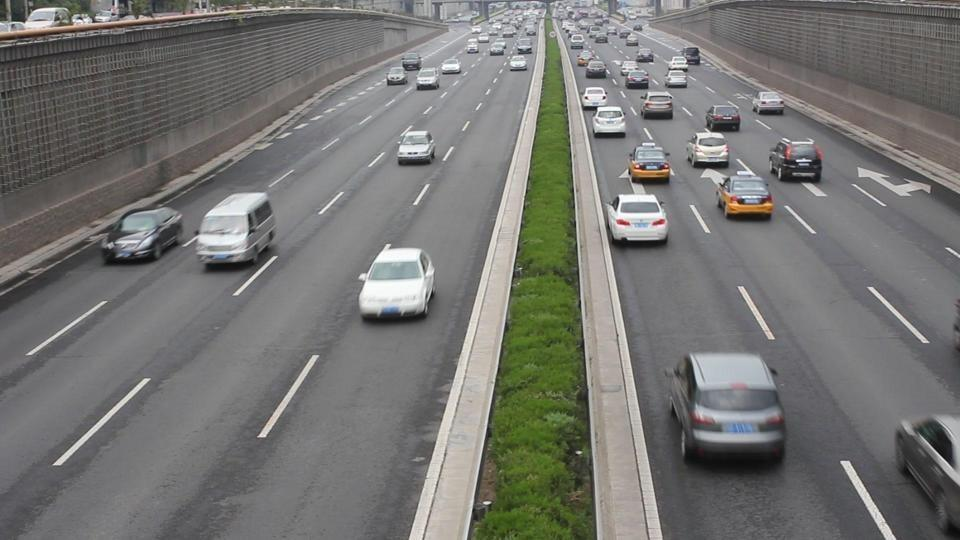car: (666, 352, 787, 464), (893, 412, 960, 532), (196, 191, 280, 267), (358, 245, 436, 321), (100, 206, 186, 265), (605, 193, 669, 245), (716, 172, 774, 221), (768, 138, 824, 183), (627, 142, 672, 183), (685, 131, 729, 166), (396, 128, 437, 165), (639, 87, 675, 121), (591, 105, 627, 137), (705, 102, 742, 132), (24, 7, 70, 29), (580, 86, 608, 109), (624, 69, 651, 88), (416, 69, 440, 90), (952, 296, 960, 352), (401, 53, 422, 71), (386, 66, 405, 85), (441, 58, 462, 75), (509, 56, 529, 71)
